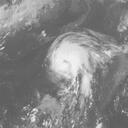cyclone: (45, 31, 103, 85)
